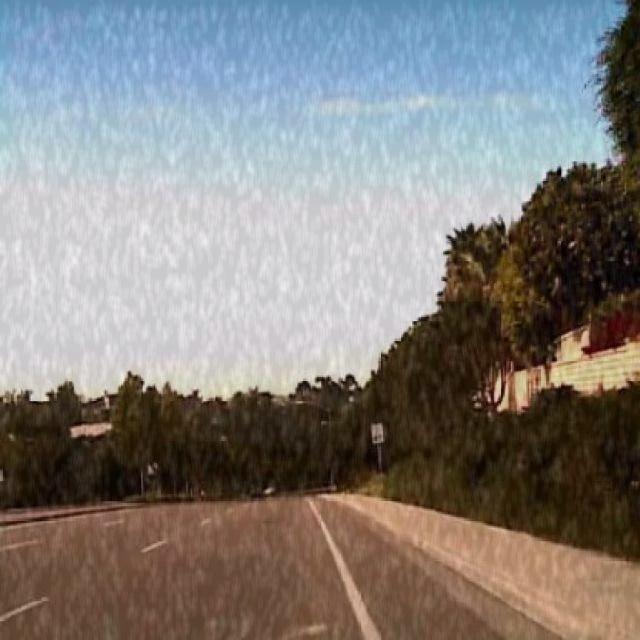speedLimitUrdbl: (371, 422, 383, 444)
